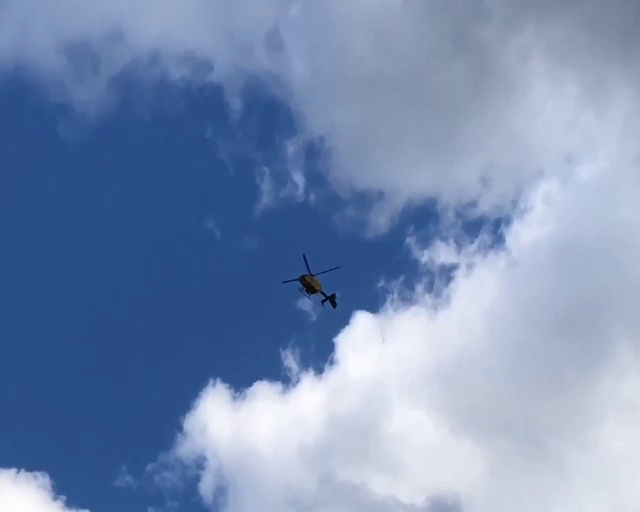HELICOPTER: (282, 252, 341, 308)
